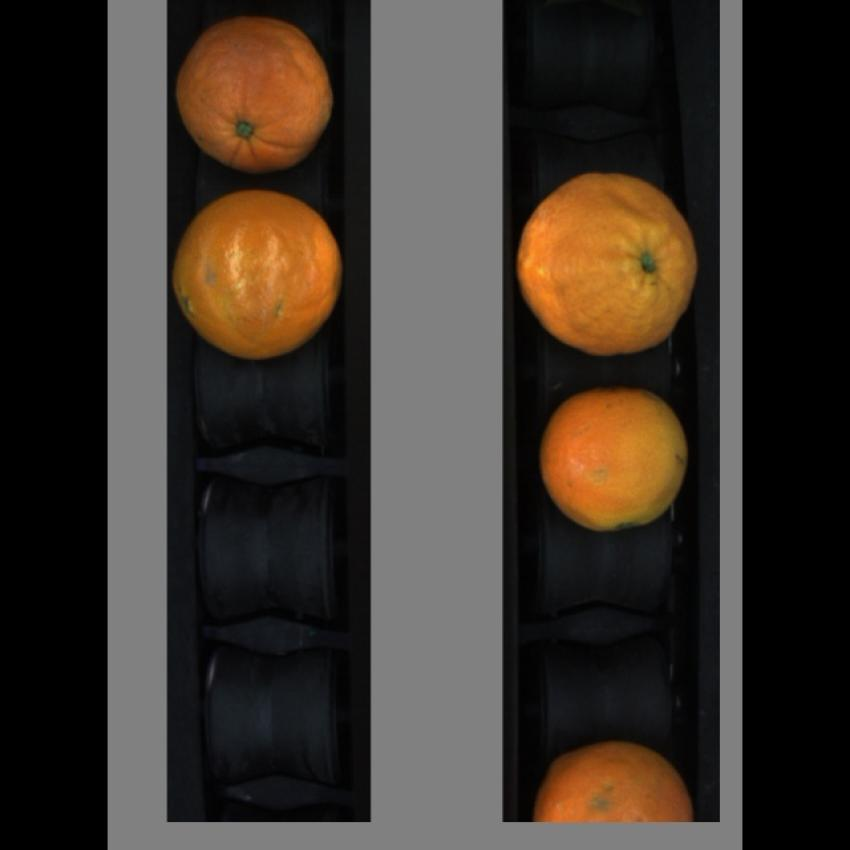Mal estado: (516, 170, 702, 359), (170, 182, 352, 364), (172, 14, 346, 174), (534, 388, 694, 540), (535, 734, 698, 824)
